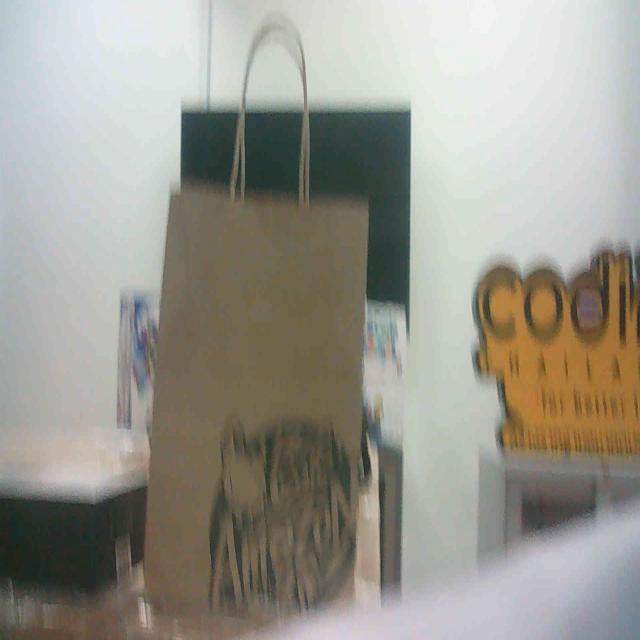bag: (148, 158, 385, 640)
